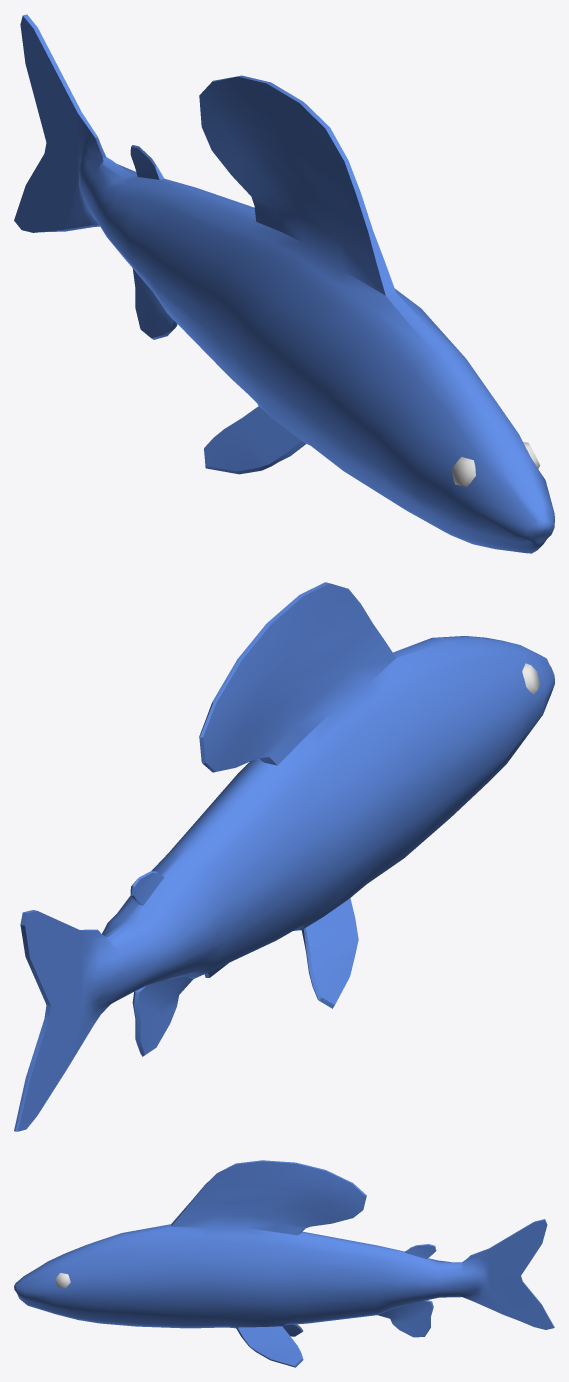
File: fishHarious.fbx
The picture shows the model from 3 angles, top to bottom: view 1: azimuth 30°, elevation 25°; view 2: azimuth 150°, elevation 25°; view 3: azimuth 270°, elevation 25°; orthographic projection. The views are drawn at different scales.
Visible parts, largest first — view 1: Cube, Cylinder; view 2: Cube; view 3: Cube.
Part boxes in pixels (box(x1,y1,x2,y2)): Cube: box(14, 14, 554, 553); Cylinder: box(451, 442, 540, 487); Cube: box(14, 582, 554, 1131); Cube: box(14, 1160, 554, 1367).
Size of the model in its own units: 65.64 by 181 by 465.
